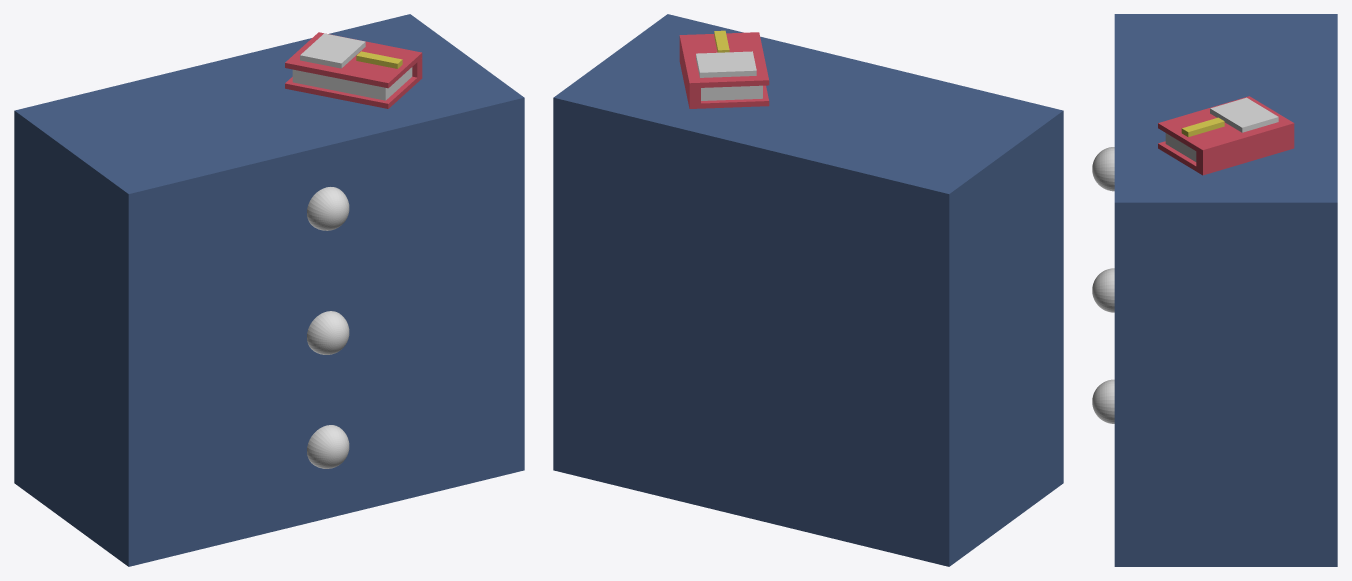
Rendered from Desk Test.glb.
3 views of the same model, side by side, from view 1: azimuth 30°, elevation 25°; view 2: azimuth 150°, elevation 25°; view 3: azimuth 270°, elevation 25° (orthographic). The views are drawn at different scales.
Parts seen in each view (by area): view 1: Mesh_Mesh_head_geo.001_lambert2SG.001; view 2: Mesh_Mesh_head_geo.001_lambert2SG.001; view 3: Mesh_Mesh_head_geo.001_lambert2SG.001.
Part boxes in pixels (x1,y1,x2,y2): Mesh_Mesh_head_geo.001_lambert2SG.001: (14, 14, 524, 566); Mesh_Mesh_head_geo.001_lambert2SG.001: (553, 14, 1063, 566); Mesh_Mesh_head_geo.001_lambert2SG.001: (1092, 14, 1337, 566).
Size of the model in its own units: 40 by 39 by 22.
